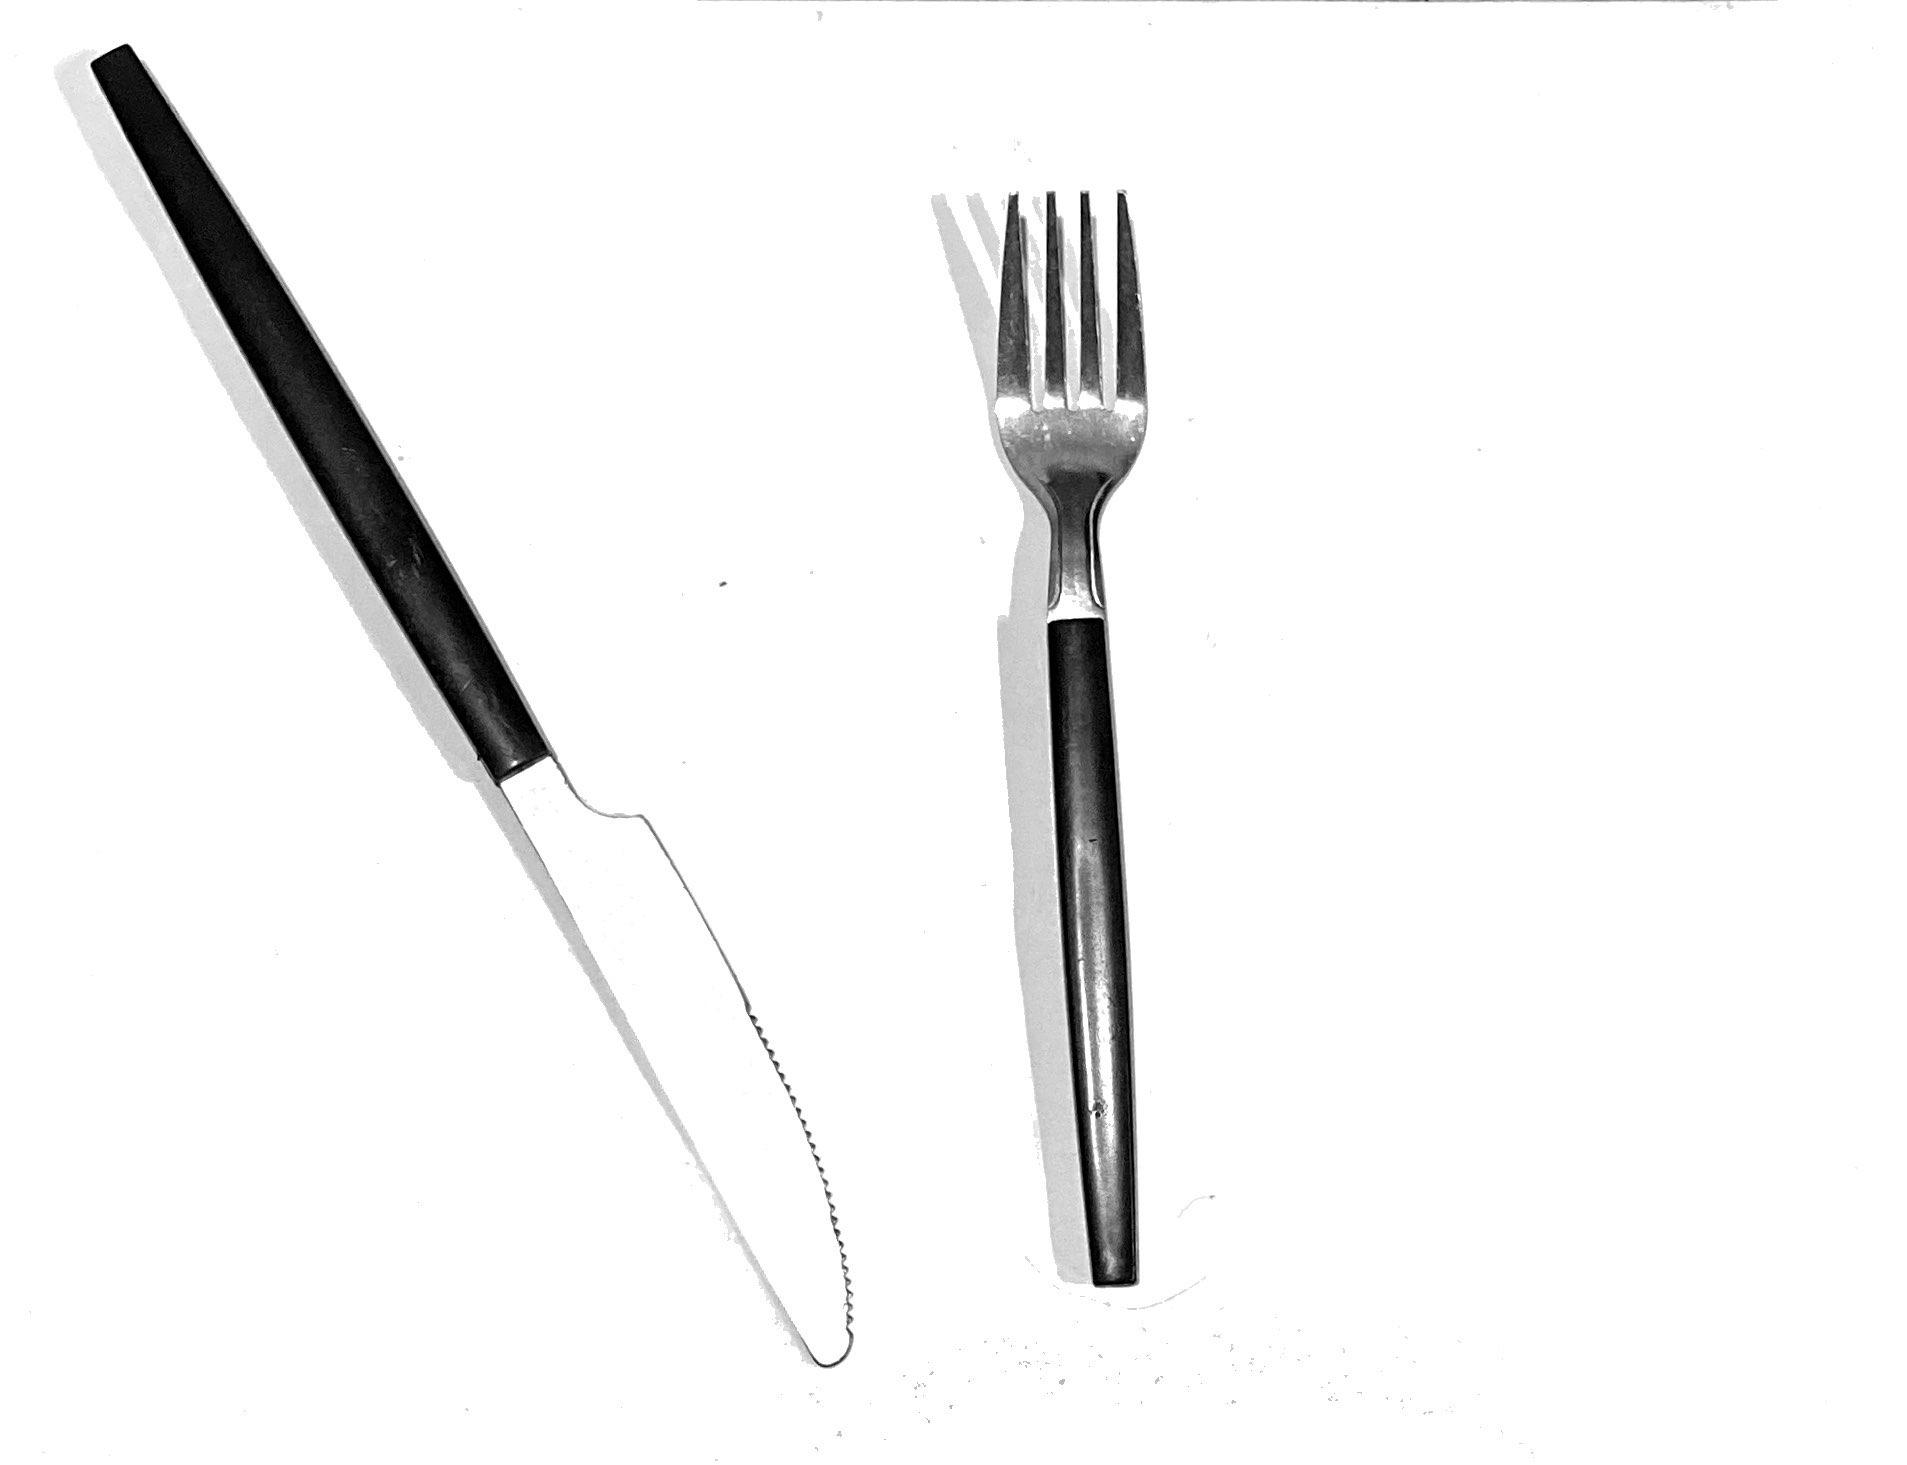Fork: (925, 175, 1268, 1316)
Knife: (18, 22, 905, 1383)
